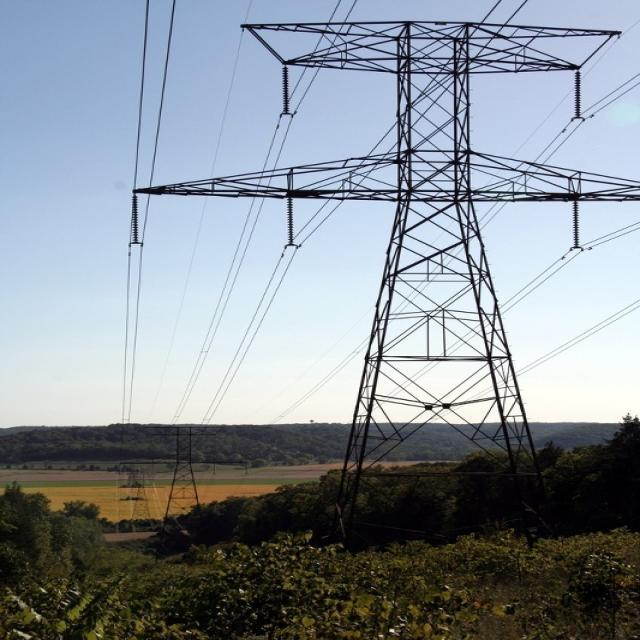non-critical vegetation: (142, 5, 590, 457)
